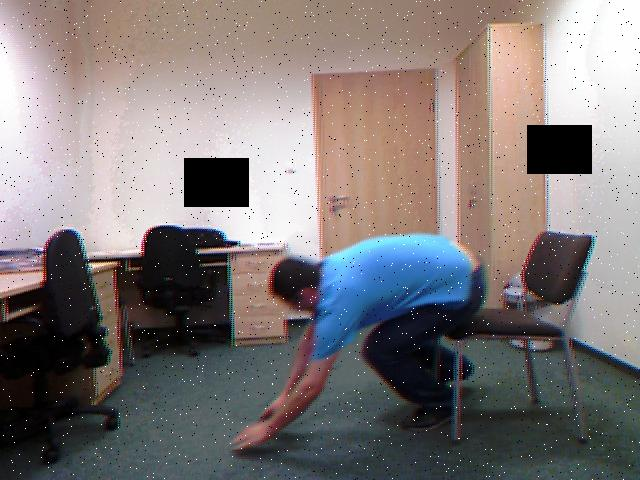near-fall: (234, 234, 482, 449)
